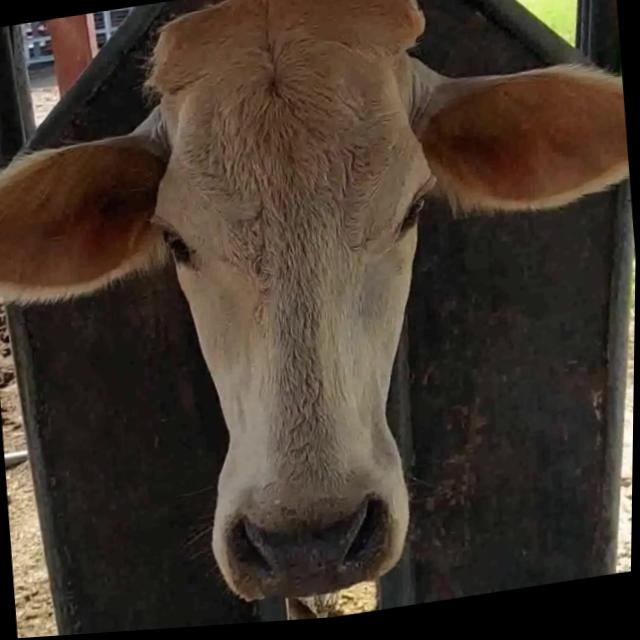cowFace: (135, 0, 472, 616)
